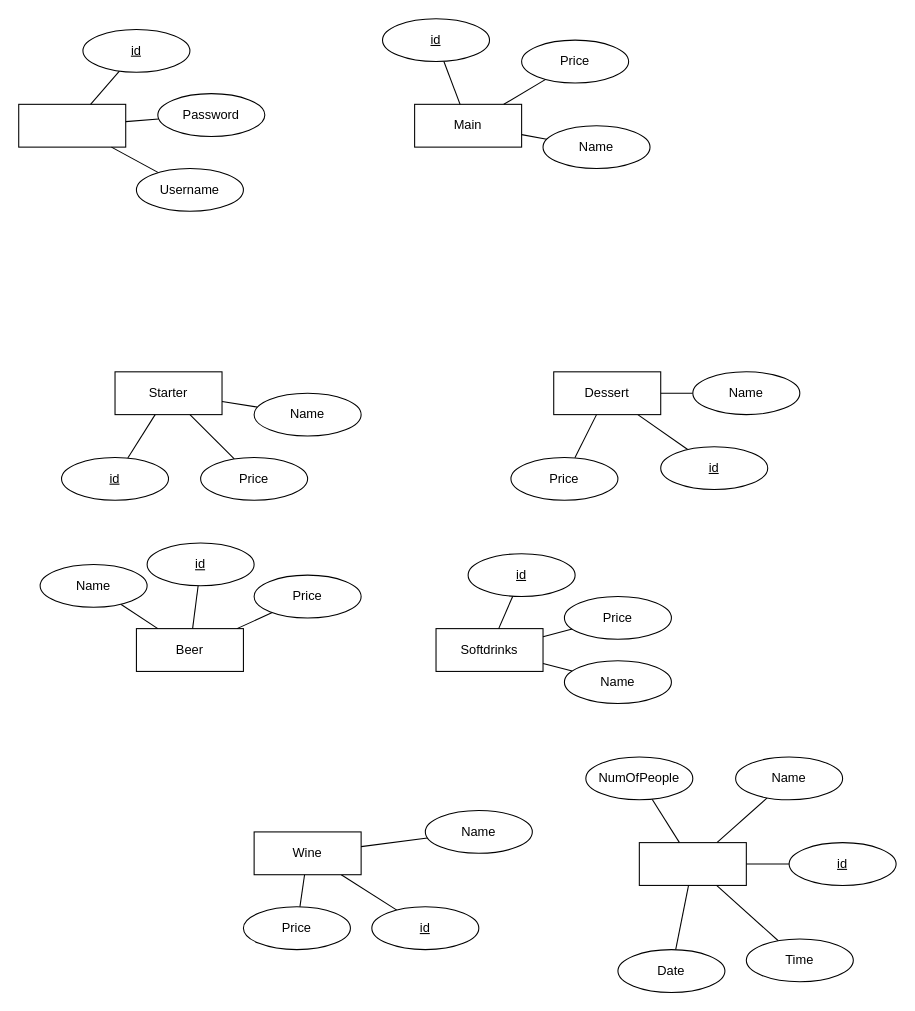
The diagram is 915 pixels wide and 1011 high, and some of its shapes have lost their labels. Here are the shapes that lost their labels. From the top down, the box of each, then its label:
(18, 103, 126, 147): Admin
(638, 842, 746, 885): Bookings
